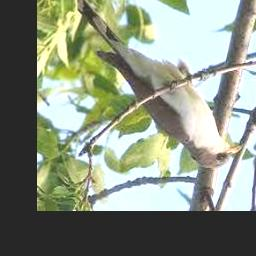Cuckoo: (65, 0, 243, 168)
